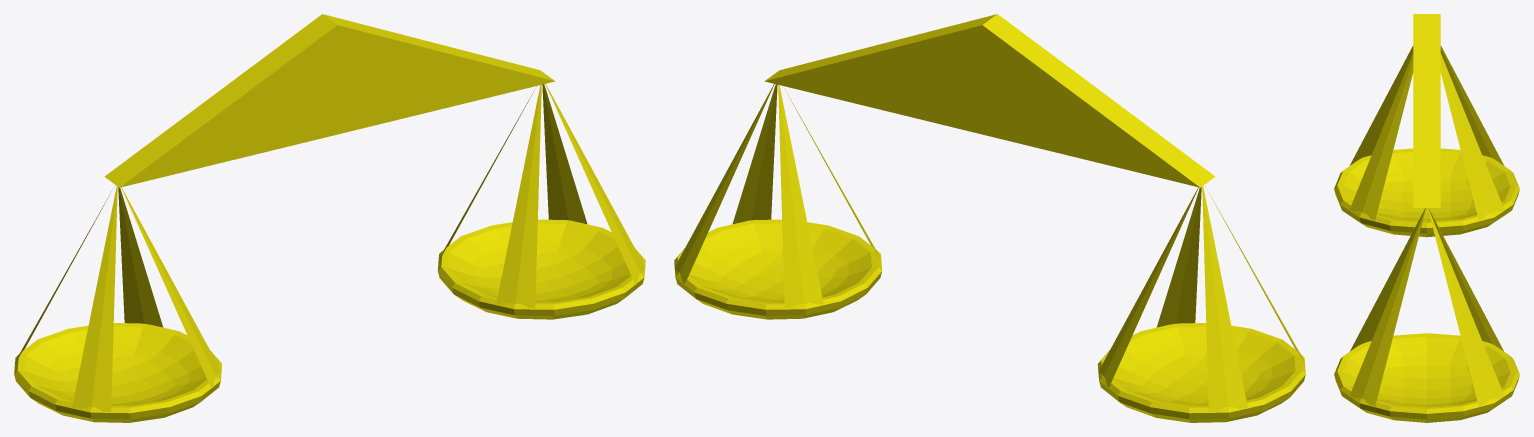
File: scales.glb
3 renders of one model, left to right at view 1: azimuth 30°, elevation 25°; view 2: azimuth 150°, elevation 25°; view 3: azimuth 270°, elevation 25°, orthographic. The views are drawn at different scales.
Parts seen in each view (by area): view 1: scales; view 2: scales; view 3: scales.
Boxes of the visible parts, x1,y1,x2,y2 form: scales: (14,14,645,422); scales: (674,14,1305,422); scales: (1334,14,1519,422).
Bounding box in the file's own units: 0.7518 × 0.3883 × 0.2235.
